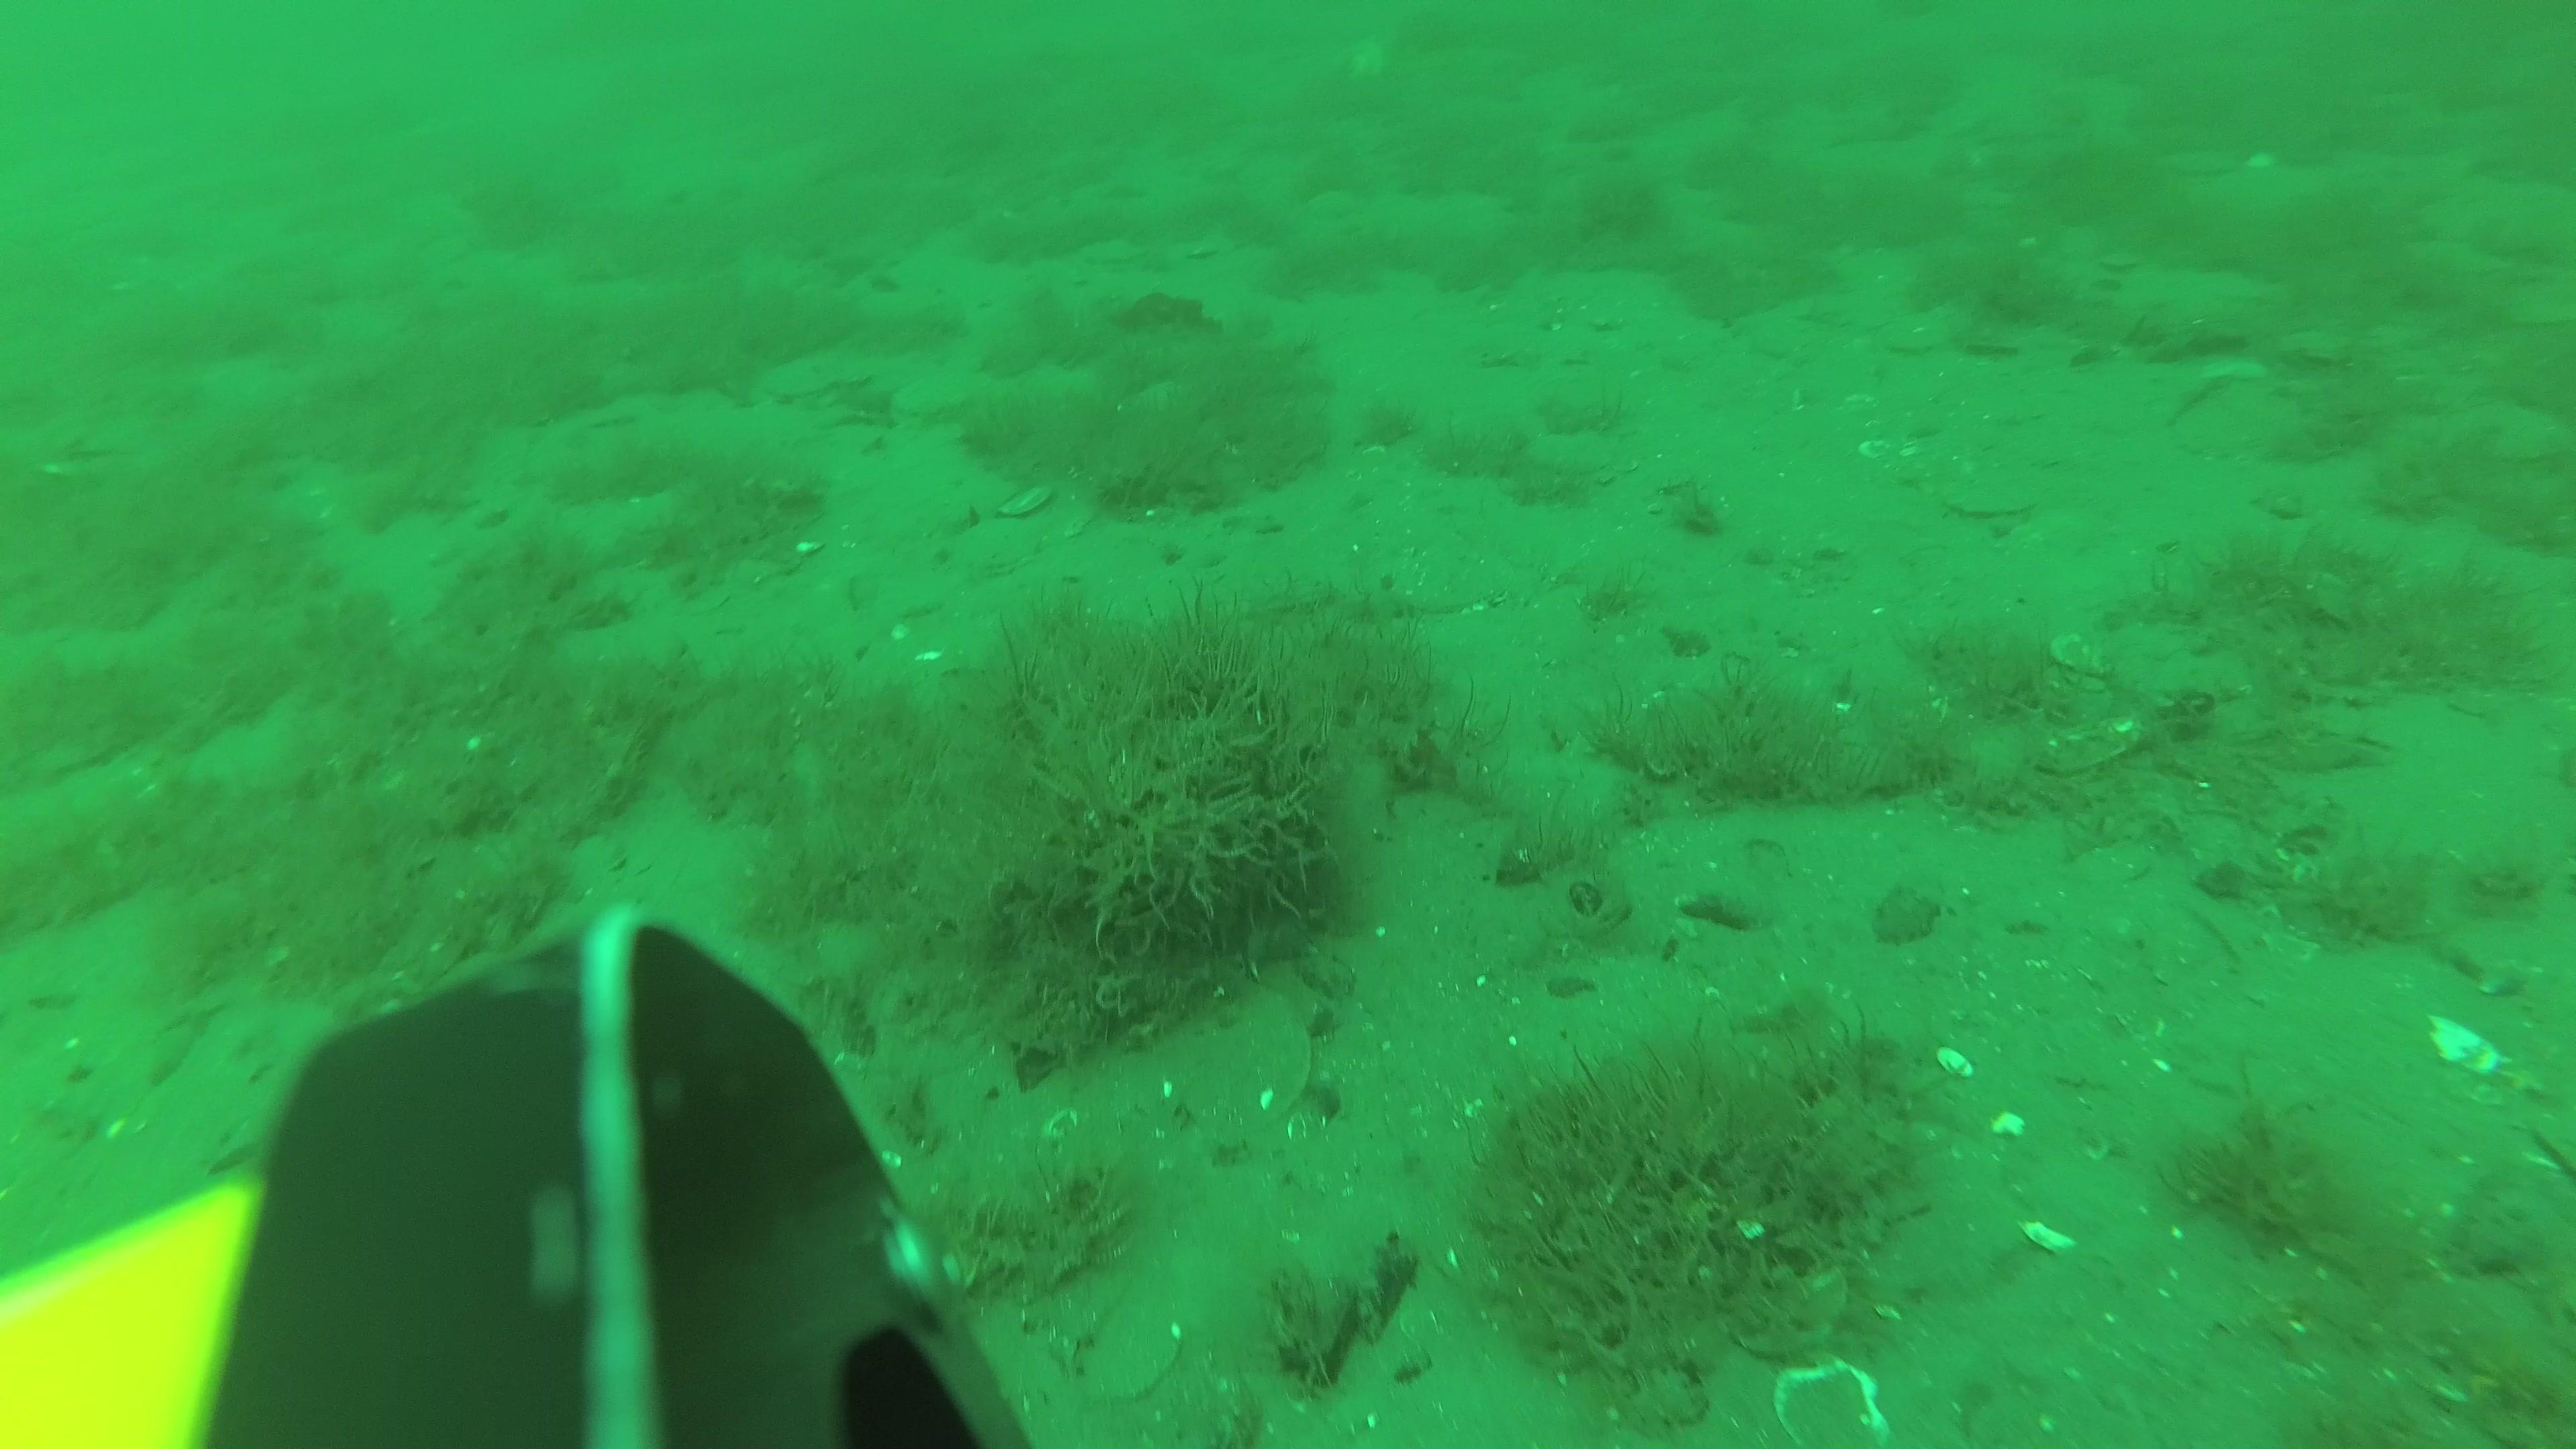scallop: (1175, 985, 1307, 1136), (1780, 1359, 1890, 1449), (1085, 1316, 1180, 1407), (955, 522, 1040, 573), (1948, 481, 2035, 520)
